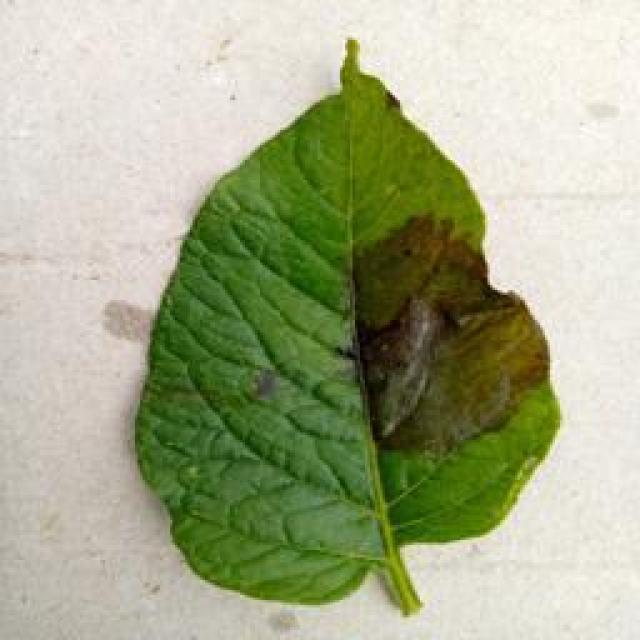late_blight: (128, 35, 562, 615)
